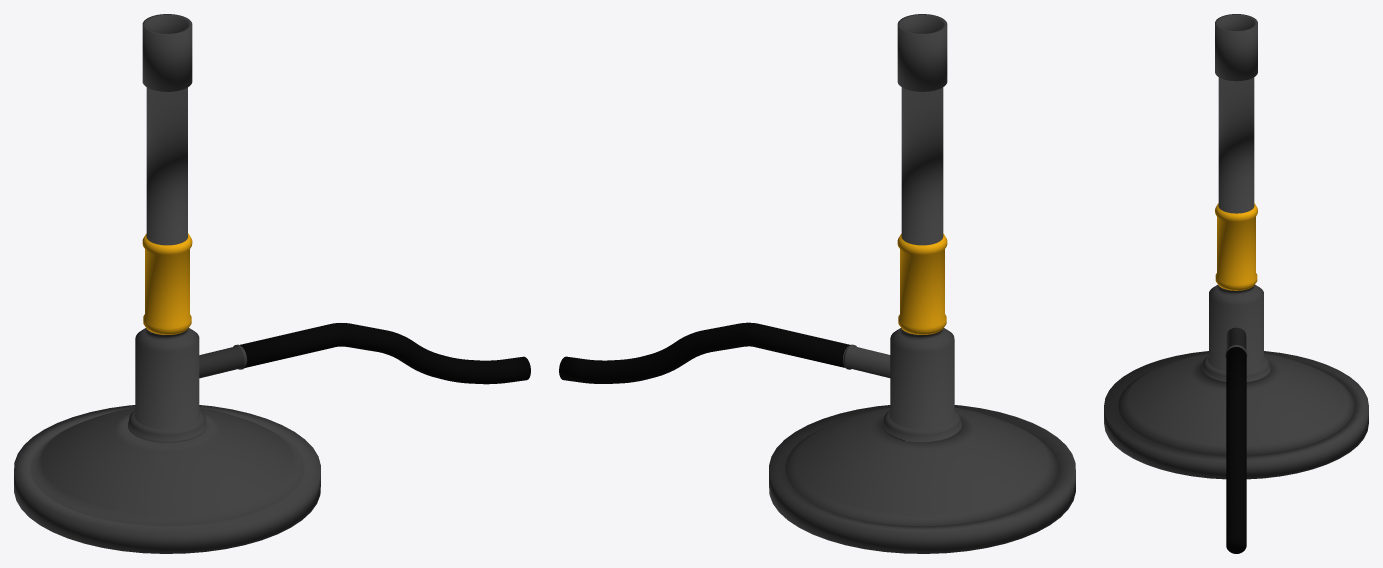
File: bunsenBurner.obj
3 renders of one model, left to right at view 1: azimuth 30°, elevation 25°; view 2: azimuth 150°, elevation 25°; view 3: azimuth 270°, elevation 25°, orthographic. The views are drawn at different scales.
Parts seen in each view (by area): view 1: Cylinder; view 2: Cylinder; view 3: Cylinder.
Boxes of the visible parts, box(x1,y1,x2,y2) form: Cylinder: box(14, 14, 530, 553); Cylinder: box(559, 14, 1075, 553); Cylinder: box(1104, 14, 1368, 553).
Bounding box in the file's own units: 3.69 × 3.34 × 2.
